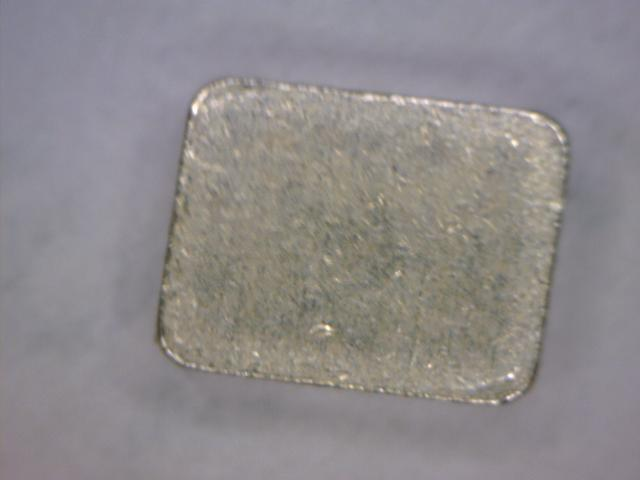ok: (153, 71, 572, 411)
